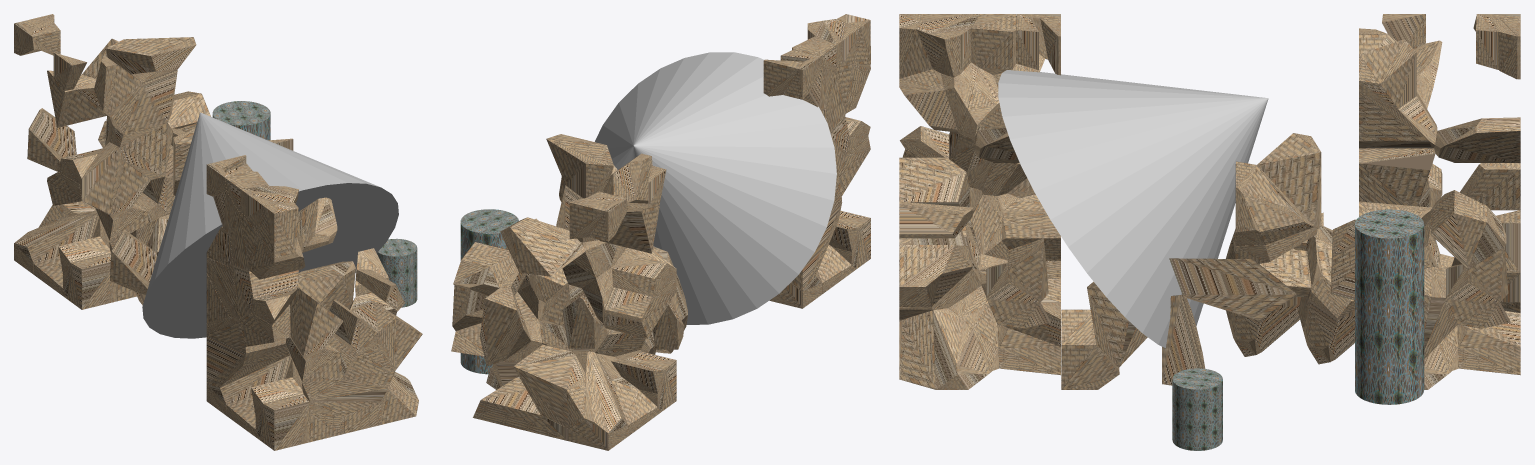
The model's file is Persians_CivilHouse_Semidemolished.fbx.
The picture shows the model from 3 angles, left to right: view 1: azimuth 30°, elevation 25°; view 2: azimuth 150°, elevation 25°; view 3: azimuth 270°, elevation 25°; orthographic projection. The views are drawn at different scales.
Visible parts, largest first — view 1: Cone, Cube.000_cell.361, Cube.000_cell.227, Cube.000_cell.267, Cube.000_cell.228, Cube.000_cell.229, Cube.000_cell.357, Cube.000_cell.311, Cube.000_cell.276, Cube.000_cell.302, Cube.000_cell.339, Cube.000_cell.291 (+50 smaller); view 2: Cone, Cube.000_cell.197, Cube.000_cell.267, Cube.000_cell.205, Cube.000_cell.228, Cube.000_cell.211, Cube.000_cell.278, Cube.000_cell.271, Cube.000_cell.258, Cylinder.005, Cube.000_cell.212, Cube.000_cell.254 (+41 smaller); view 3: Cone, Cylinder.005, Cube.000_cell.301, Cube.000_cell.325, Cube.000_cell.246, Cube.000_cell.295, Cube.000_cell.258, Cylinder.003, Cube.000_cell.229, Cube.000_cell.302, Cube.000_cell.274, Cube.000_cell.227 (+43 smaller).
Part boxes in pixels (x1,y1,x2,y2): Cone: (142,112,398,338); Cube.000_cell.361: (206,316,289,387); Cube.000_cell.227: (110,69,177,134); Cube.000_cell.267: (14,210,98,274); Cube.000_cell.228: (106,37,196,74); Cube.000_cell.229: (105,115,173,179); Cube.000_cell.357: (290,288,343,360); Cube.000_cell.311: (255,394,310,450); Cube.000_cell.276: (63,253,113,309); Cube.000_cell.302: (351,301,422,370); Cube.000_cell.339: (110,230,157,294); Cube.000_cell.291: (79,142,124,215); Cone: (595,52,836,324); Cube.000_cell.197: (513,344,585,428); Cube.000_cell.267: (568,351,627,450); Cube.000_cell.205: (500,217,584,276); Cube.000_cell.228: (546,134,613,198); Cube.000_cell.211: (479,286,531,366); Cube.000_cell.278: (473,376,568,440); Cube.000_cell.271: (602,278,676,338); Cube.000_cell.258: (453,242,526,296); Cylinder.005: (460,209,518,374); Cube.000_cell.212: (611,257,676,296); Cube.000_cell.254: (599,202,659,253); Cone: (998,70,1268,348); Cylinder.005: (1355,209,1424,404); Cube.000_cell.301: (899,308,991,389); Cube.000_cell.325: (1169,258,1297,320); Cube.000_cell.246: (1298,225,1354,364); Cube.000_cell.295: (1235,161,1314,245); Cube.000_cell.258: (1430,190,1506,269); Cylinder.003: (1172,368,1222,450); Cube.000_cell.229: (1359,148,1435,206); Cube.000_cell.302: (899,245,972,306); Cube.000_cell.274: (1257,133,1321,228); Cube.000_cell.227: (1359,92,1437,148).
Bounding box in the file's own units: 551 × 424 × 808.
